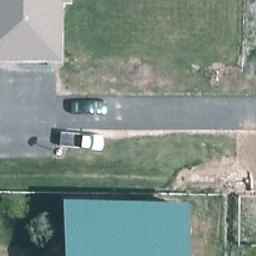car: (70, 99, 110, 115)
pickup: (59, 129, 108, 152)
